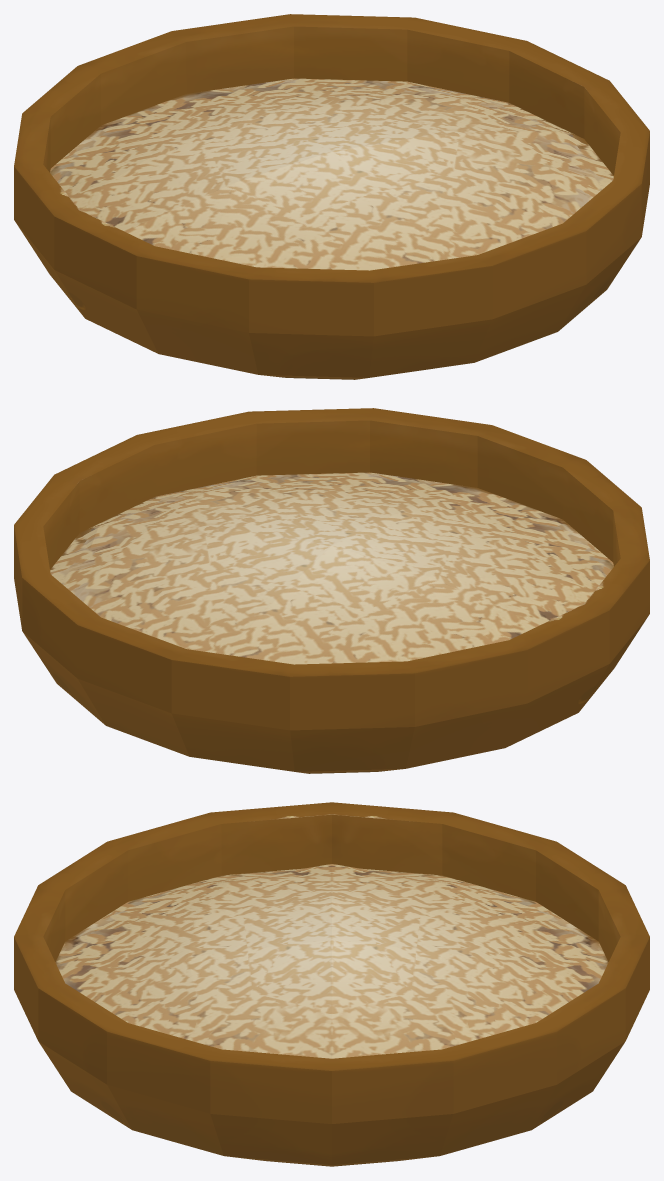
The model's file is plate2.gltf.
The picture shows the model from 3 angles, top to bottom: view 1: azimuth 30°, elevation 25°; view 2: azimuth 150°, elevation 25°; view 3: azimuth 270°, elevation 25°; orthographic projection.
Parts seen in each view (by area): view 1: fruis_and_vegetables.002; view 2: fruis_and_vegetables.002; view 3: fruis_and_vegetables.002.
Boxes of the visible parts, x1=… form: fruis_and_vegetables.002: x1=14, y1=14, x2=649, y2=379; fruis_and_vegetables.002: x1=14, y1=408, x2=649, y2=773; fruis_and_vegetables.002: x1=14, y1=802, x2=649, y2=1166.
Bounding box in the file's own units: 0.4446 × 0.1205 × 0.4446.
Materials: 1 (1 with a texture image).
